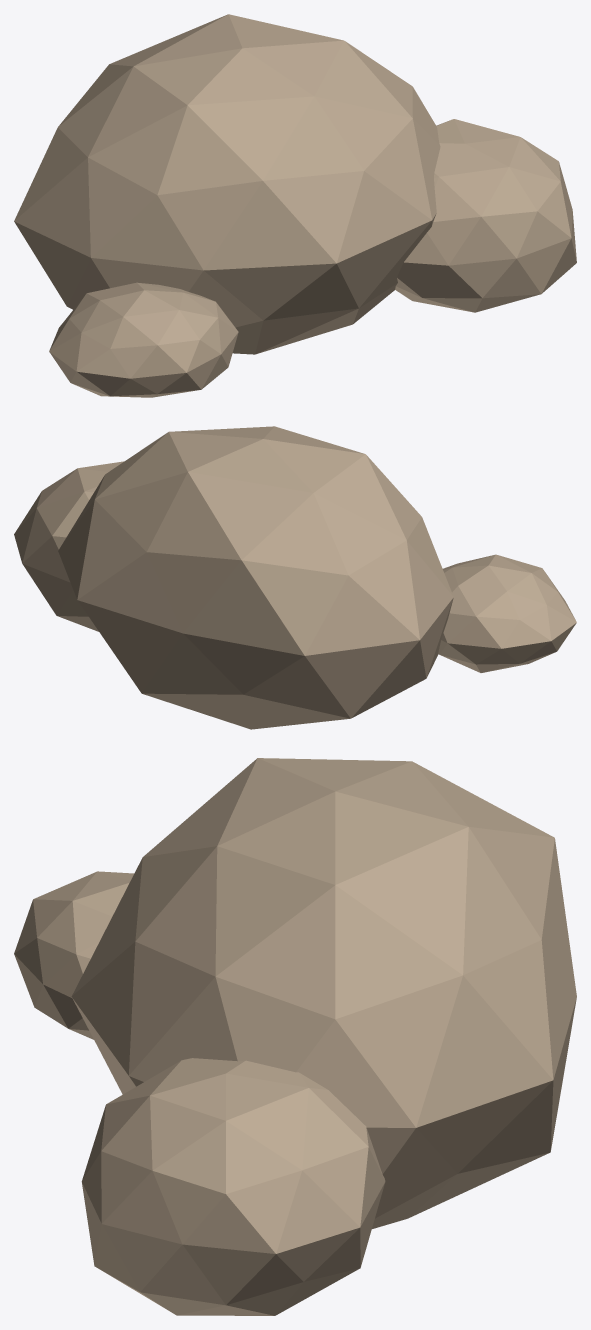
The model's file is rock-outcrop.glb.
3 renders of one model, top to bottom at view 1: azimuth 30°, elevation 25°; view 2: azimuth 150°, elevation 25°; view 3: azimuth 270°, elevation 25°, orthographic. The views are drawn at different scales.
Parts seen in each view (by area): view 1: ocean-rock-outcrop; view 2: ocean-rock-outcrop; view 3: ocean-rock-outcrop.
Boxes of the visible parts, left/top/right/bottom form: ocean-rock-outcrop: left=14, top=14, right=576, bottom=397; ocean-rock-outcrop: left=14, top=426, right=576, bottom=729; ocean-rock-outcrop: left=14, top=758, right=576, bottom=1315.
Size of the model in its own units: 0.9528 by 0.499 by 0.6123.
